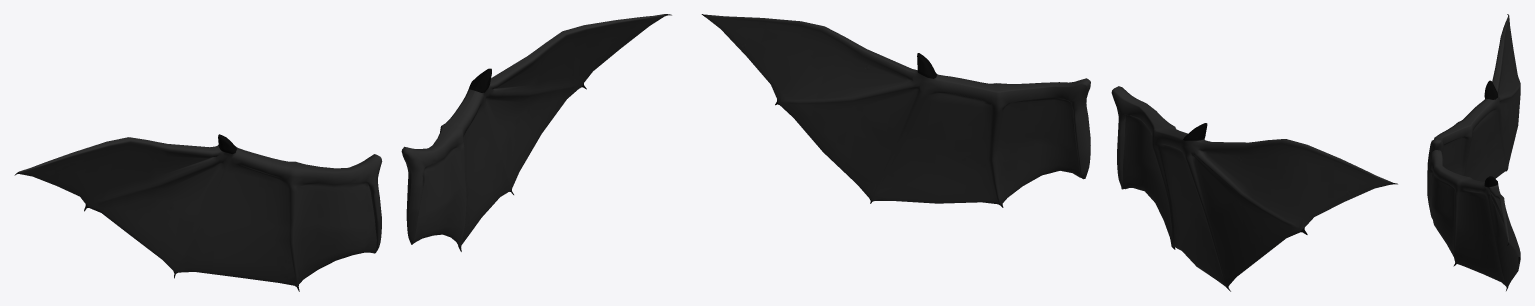
Rendered from demonwings.glb.
3 views of the same model, side by side, from view 1: azimuth 30°, elevation 25°; view 2: azimuth 150°, elevation 25°; view 3: azimuth 270°, elevation 25° (orthographic). The views are drawn at different scales.
Visible parts, largest first — view 1: demonwings_0; view 2: demonwings_0; view 3: demonwings_0.
Part boxes in pixels (bbox=[...]): demonwings_0: bbox=[14, 14, 671, 291]; demonwings_0: bbox=[701, 14, 1397, 291]; demonwings_0: bbox=[1427, 14, 1520, 290].
Size of the model in its own units: 2 by 0.4733 by 0.3404.
1 material, 1 textured.
